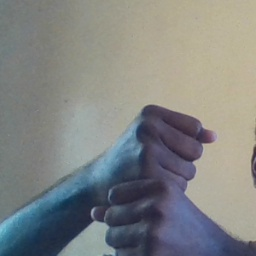G: (98, 98, 218, 256)
